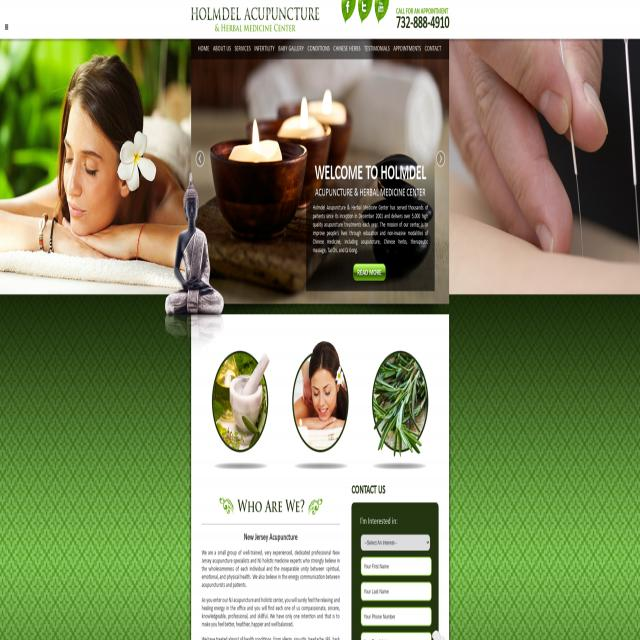button: (212, 340, 270, 458), (292, 340, 348, 458), (372, 340, 428, 458), (191, 6, 321, 32), (353, 263, 387, 284), (391, 39, 423, 59), (276, 39, 306, 59), (332, 39, 362, 59), (362, 39, 392, 59), (306, 39, 332, 59), (252, 39, 276, 59), (211, 39, 233, 59), (423, 39, 443, 59), (233, 39, 252, 59), (196, 39, 211, 59), (436, 150, 445, 166), (196, 150, 204, 166)
field: (361, 556, 432, 576), (361, 582, 432, 602), (361, 606, 432, 626), (360, 535, 430, 551), (361, 631, 431, 640)
